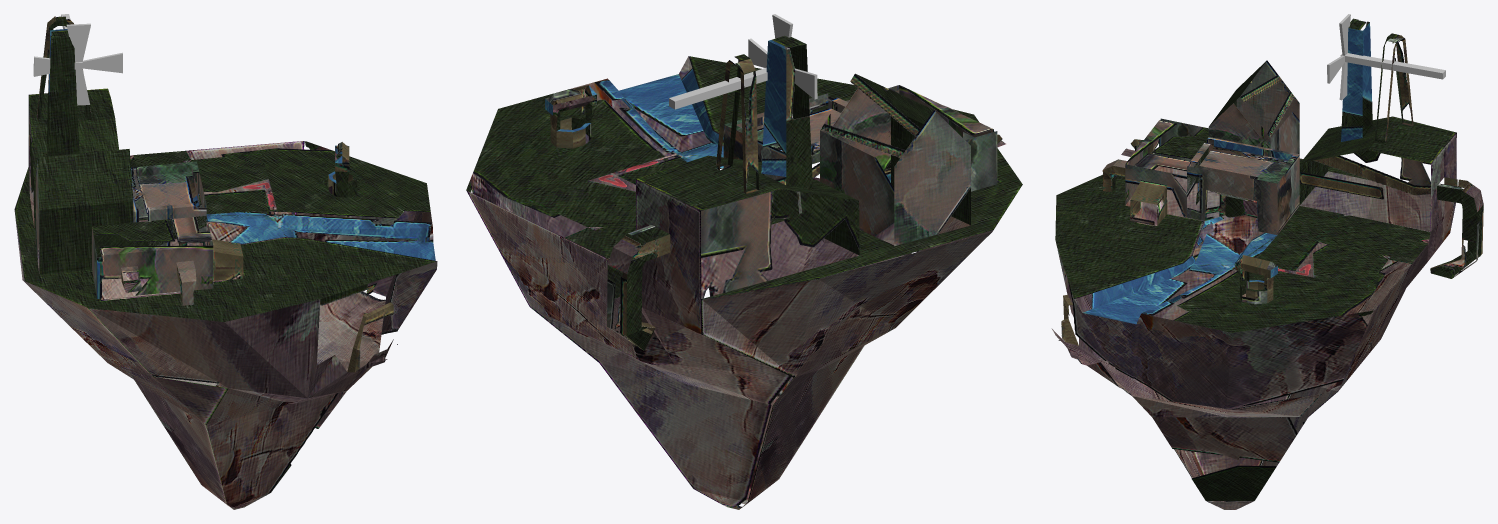
Rendered from islandblend.obj.
3 renders of one model, left to right at view 1: azimuth 30°, elevation 25°; view 2: azimuth 150°, elevation 25°; view 3: azimuth 270°, elevation 25°, orthographic. The views are drawn at different scales.
Parts seen in each view (by area): view 1: Cube, Cube.001; view 2: Cube, Cube.001; view 3: Cube, Cube.001.
Part boxes in pixels (box(x1,y1,x2,y2)): Cube: box(14, 16, 437, 509); Cube.001: box(33, 14, 122, 105); Cube: box(466, 36, 1022, 509); Cube.001: box(669, 14, 817, 117); Cube: box(1051, 18, 1483, 509); Cube.001: box(1327, 14, 1445, 100).
Size of the model in its own units: 5.72 by 6.27 by 5.54.
